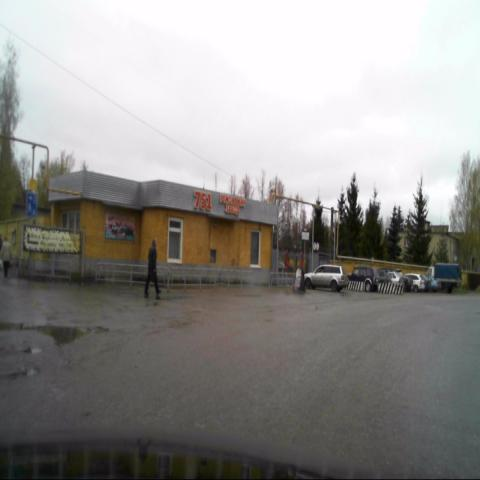5_21: (27, 193, 36, 217)
